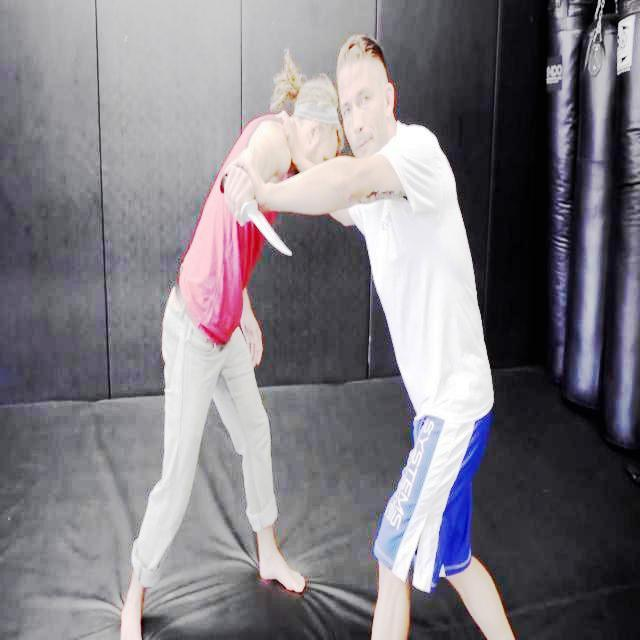Knife: (225, 194, 302, 259)
